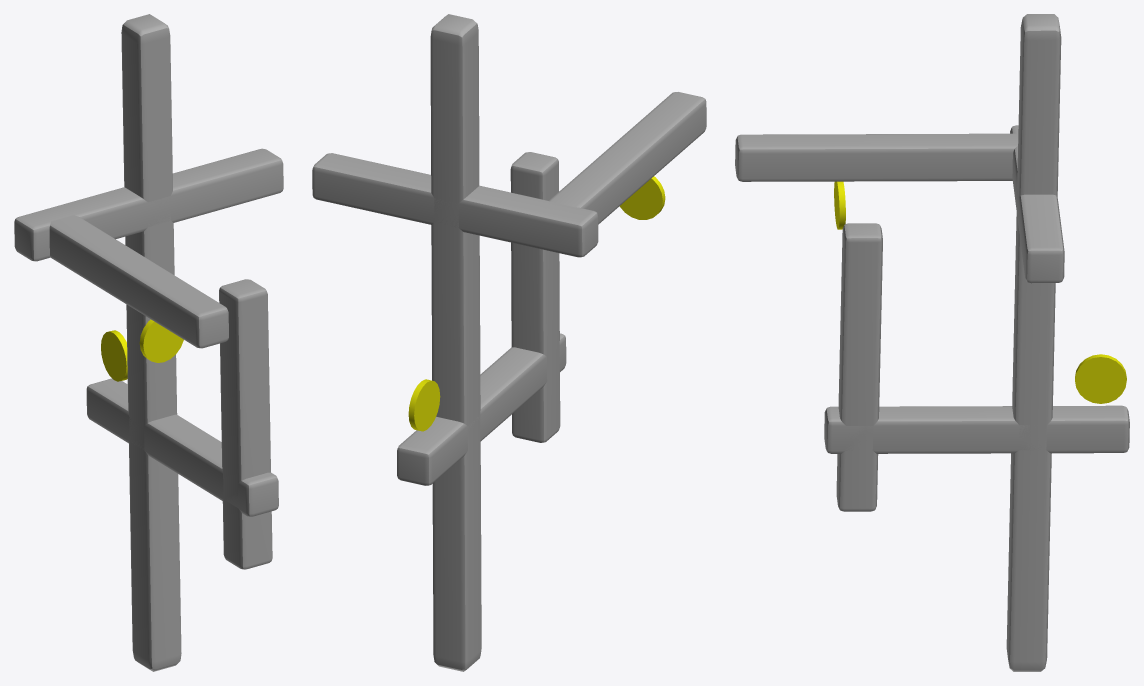
File: TestPuzzel_ver_2.fbx
3 renders of one model, left to right at view 1: azimuth 30°, elevation 25°; view 2: azimuth 150°, elevation 25°; view 3: azimuth 270°, elevation 25°, orthographic.
Visible parts, largest first — view 1: polySurface7; view 2: polySurface7; view 3: polySurface7.
Boxes of the visible parts, left/top/right/bottom form: polySurface7: left=14, top=14, right=283, bottom=671; polySurface7: left=312, top=14, right=706, bottom=671; polySurface7: left=735, top=14, right=1129, bottom=671.
Size of the model in its own units: 7.81 by 18.2 by 10.1.
